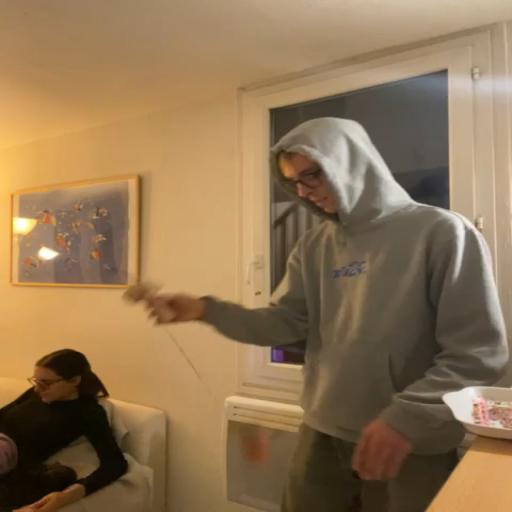kendama_ball: (241, 428, 268, 463)
